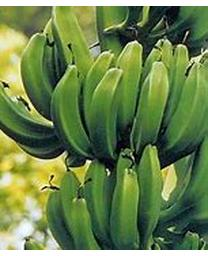banana: (0, 10, 207, 246)
